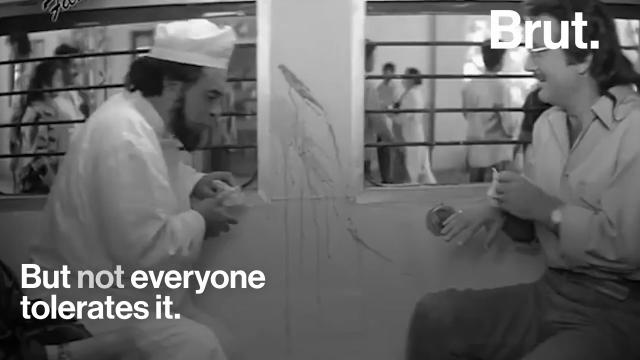spit: (264, 65, 401, 277)
